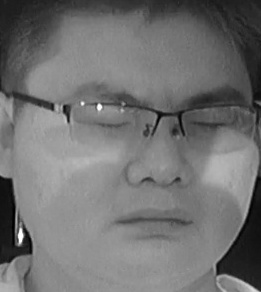blink: (187, 116, 223, 132), (94, 118, 135, 132)
glass: (62, 100, 158, 153), (178, 100, 260, 153)
mouth: (117, 204, 192, 241)
